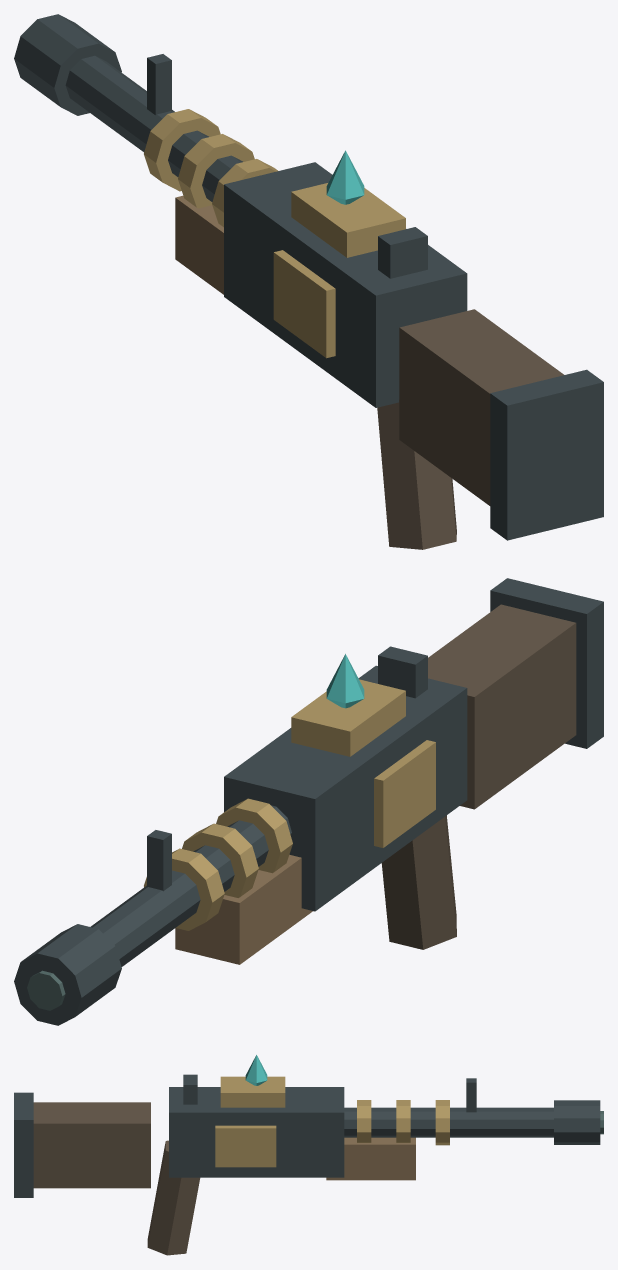
The model's file is Equip_Rifle.fbx.
The picture shows the model from 3 angles, top to bottom: view 1: azimuth 30°, elevation 25°; view 2: azimuth 150°, elevation 25°; view 3: azimuth 270°, elevation 25°; orthographic projection. The views are drawn at different scales.
Visible parts, largest first — view 1: Equip_Rifle; view 2: Equip_Rifle; view 3: Equip_Rifle.
Boxes of the visible parts, x1,y1,x2,y2 form: Equip_Rifle: (14, 14, 603, 549); Equip_Rifle: (14, 578, 603, 1025); Equip_Rifle: (14, 1055, 603, 1255).
Size of the model in its own units: 0.204 by 0.599 by 1.65.
